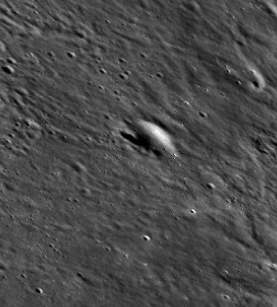crater: (95, 86, 200, 192)
